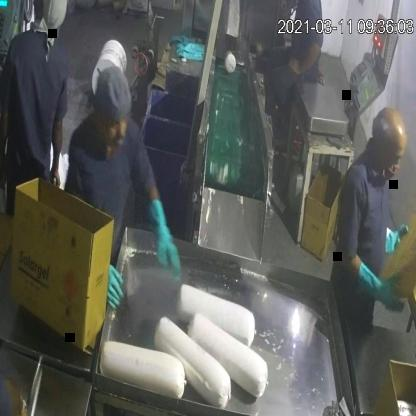glove: (146, 192, 186, 298), (354, 250, 408, 314)
no_glove: (283, 33, 322, 81), (45, 116, 67, 197), (0, 103, 18, 196)
